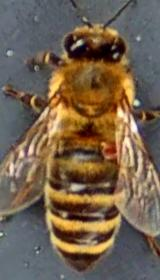varroa_mite: (94, 134, 128, 166)
